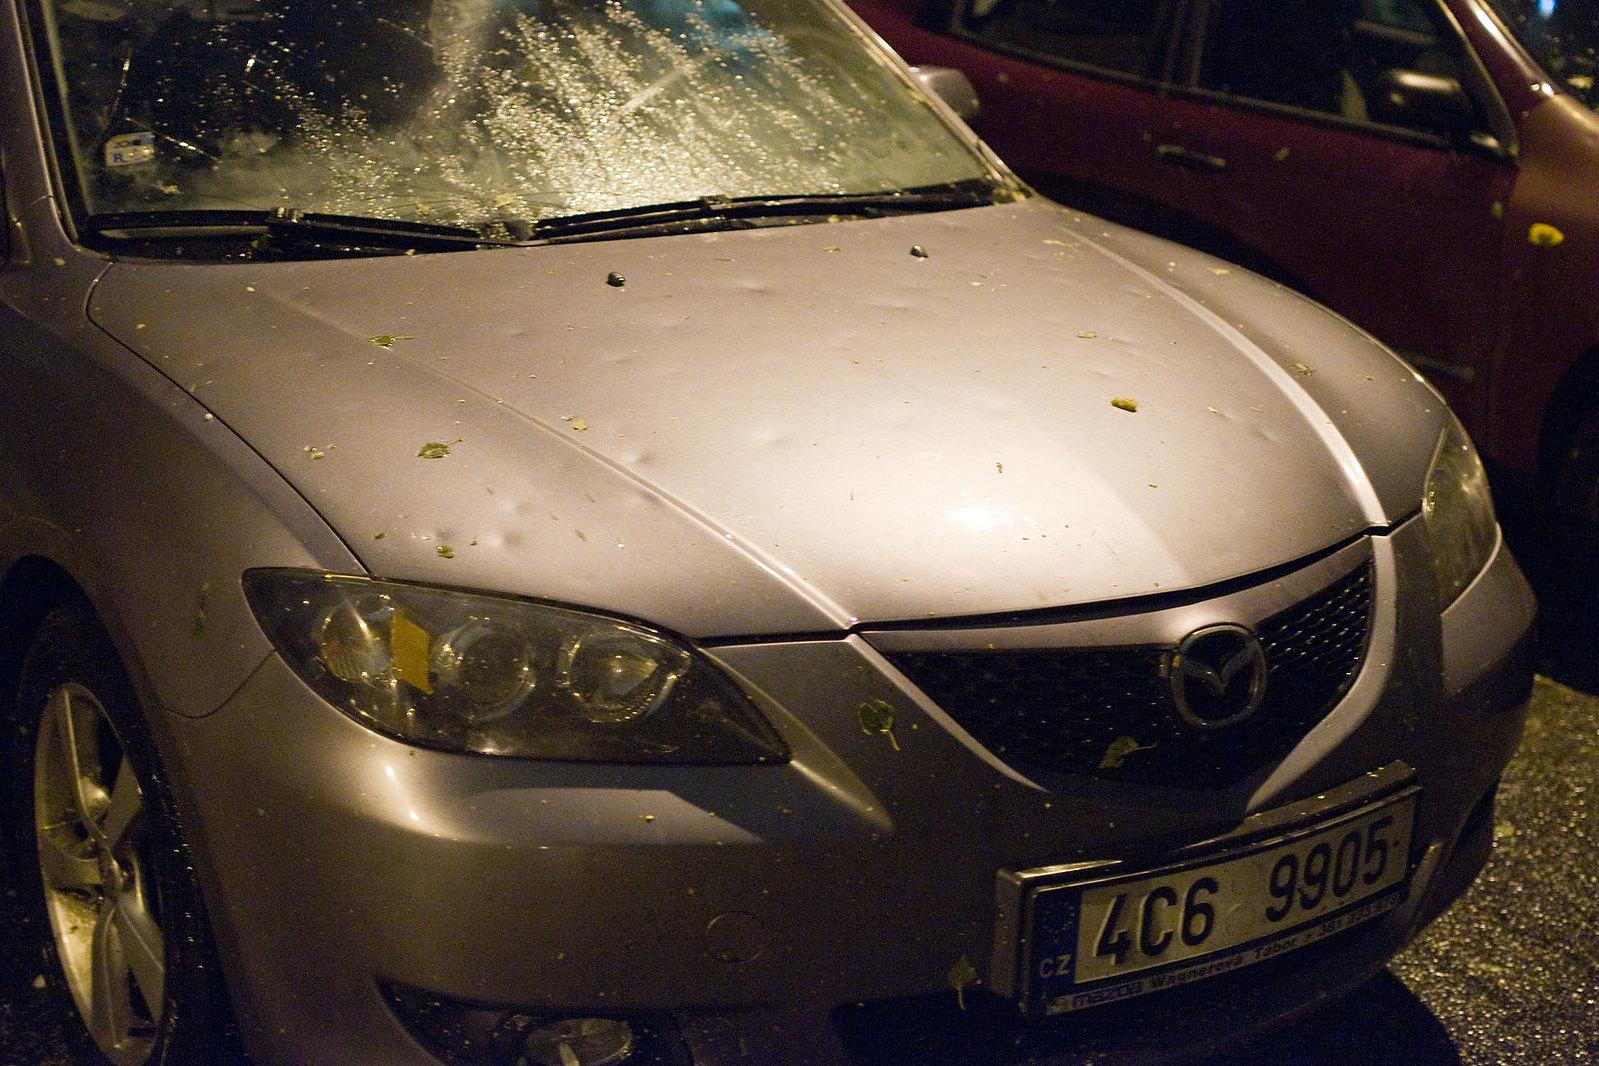bonnet-dent: (128, 266, 1373, 603)
